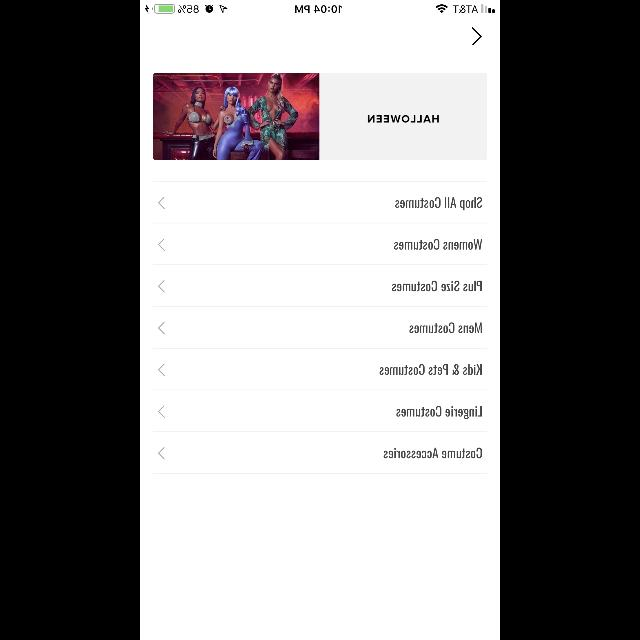icon: (472, 27, 482, 45), (158, 447, 165, 459), (158, 406, 165, 418), (158, 364, 165, 376), (158, 322, 165, 334), (158, 280, 165, 292), (158, 239, 165, 251), (158, 197, 165, 209)
image: (153, 74, 319, 160)
text: (380, 364, 482, 376), (392, 280, 482, 292), (394, 198, 482, 210), (396, 406, 482, 418), (382, 448, 482, 458), (394, 240, 482, 250), (408, 322, 482, 333), (368, 115, 438, 123)
uppertaskbar: (140, 0, 500, 14)
